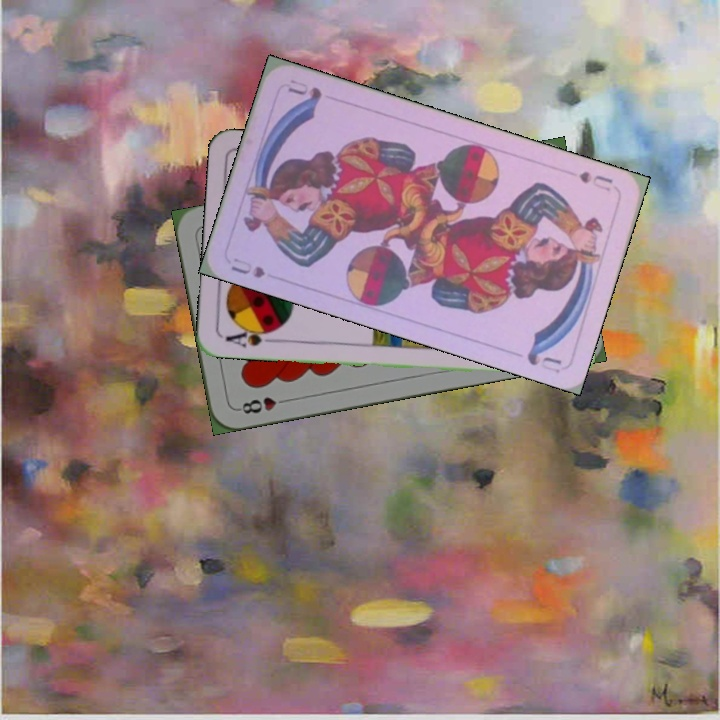H8: (233, 393, 292, 417)
SA: (221, 323, 280, 351)
SU: (227, 253, 268, 281), (575, 167, 615, 194)
